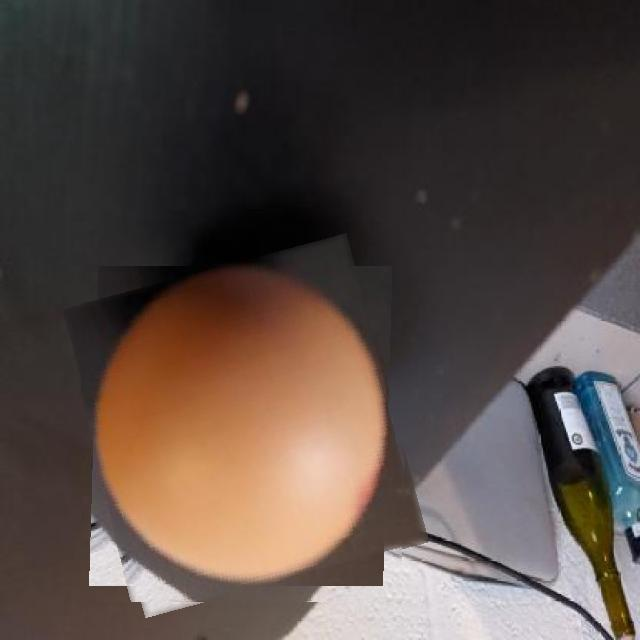biodegradable: (81, 250, 411, 602)
